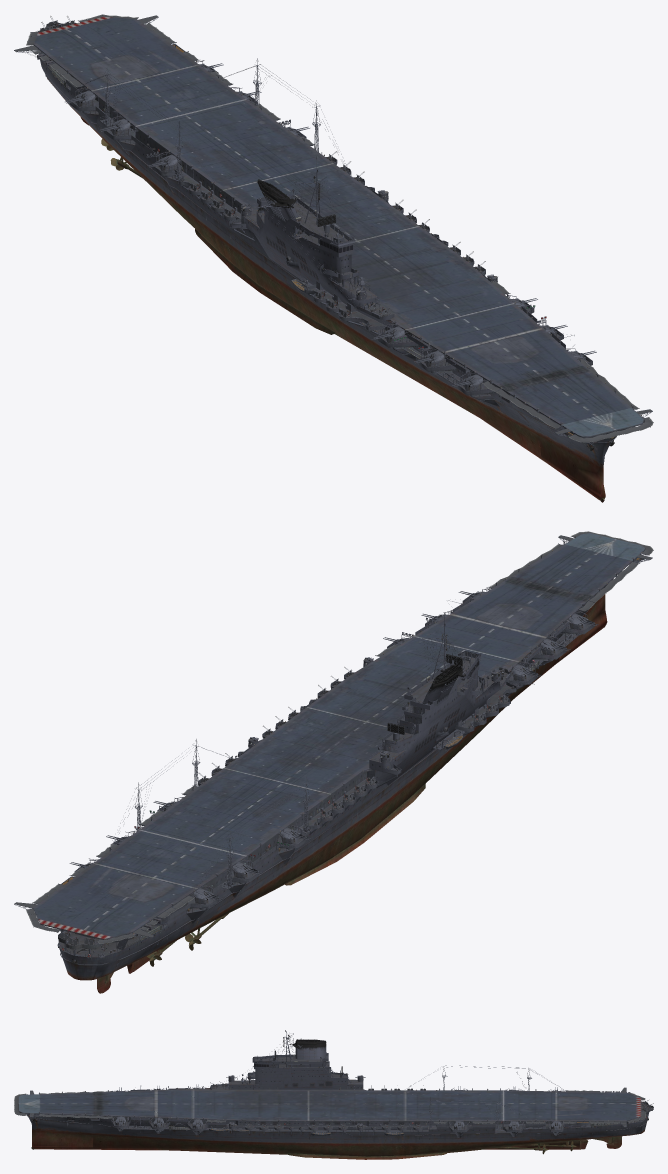
The model's file is ijn_hakuryuu-maximum-compressed.glb.
3 views of the same model, one above another, from view 1: azimuth 30°, elevation 25°; view 2: azimuth 150°, elevation 25°; view 3: azimuth 270°, elevation 25° (orthographic). The views are drawn at different scales.
Visible parts, largest first — view 1: Object_77, Object_76, Object_78, Object_83, Object_30, Object_64; view 2: Object_76, Object_77, Object_78, Object_83, Object_30, Object_64; view 3: Object_77, Object_76, Object_78, Object_83, Object_30, Object_75, Object_55, Object_74, Object_64.
Part boxes in pixels (left/top/right/bottom): Object_77: left=230, top=187, right=597, bottom=461; Object_76: left=95, top=68, right=653, bottom=502; Object_78: left=14, top=14, right=375, bottom=292; Object_83: left=229, top=157, right=574, bottom=385; Object_30: left=14, top=15, right=652, bottom=441; Object_64: left=103, top=58, right=320, bottom=177; Object_76: left=96, top=531, right=653, bottom=949; Object_77: left=247, top=576, right=597, bottom=842; Object_78: left=14, top=745, right=378, bottom=993; Object_83: left=369, top=598, right=577, bottom=785; Object_30: left=14, top=532, right=652, bottom=943; Object_64: left=135, top=739, right=310, bottom=885; Object_77: left=89, top=1061, right=368, bottom=1159; Object_76: left=14, top=1088, right=551, bottom=1159; Object_78: left=365, top=1087, right=653, bottom=1159; Object_83: left=123, top=1031, right=363, bottom=1134; Object_30: left=14, top=1087, right=644, bottom=1126; Object_75: left=123, top=1032, right=647, bottom=1131; Object_55: left=209, top=1128, right=404, bottom=1135; Object_74: left=31, top=1065, right=565, bottom=1132; Object_64: left=429, top=1066, right=531, bottom=1129.
Size of the model in its own units: 37.7 by 37.02 by 193.
Materials: 67 (67 with a texture image).
